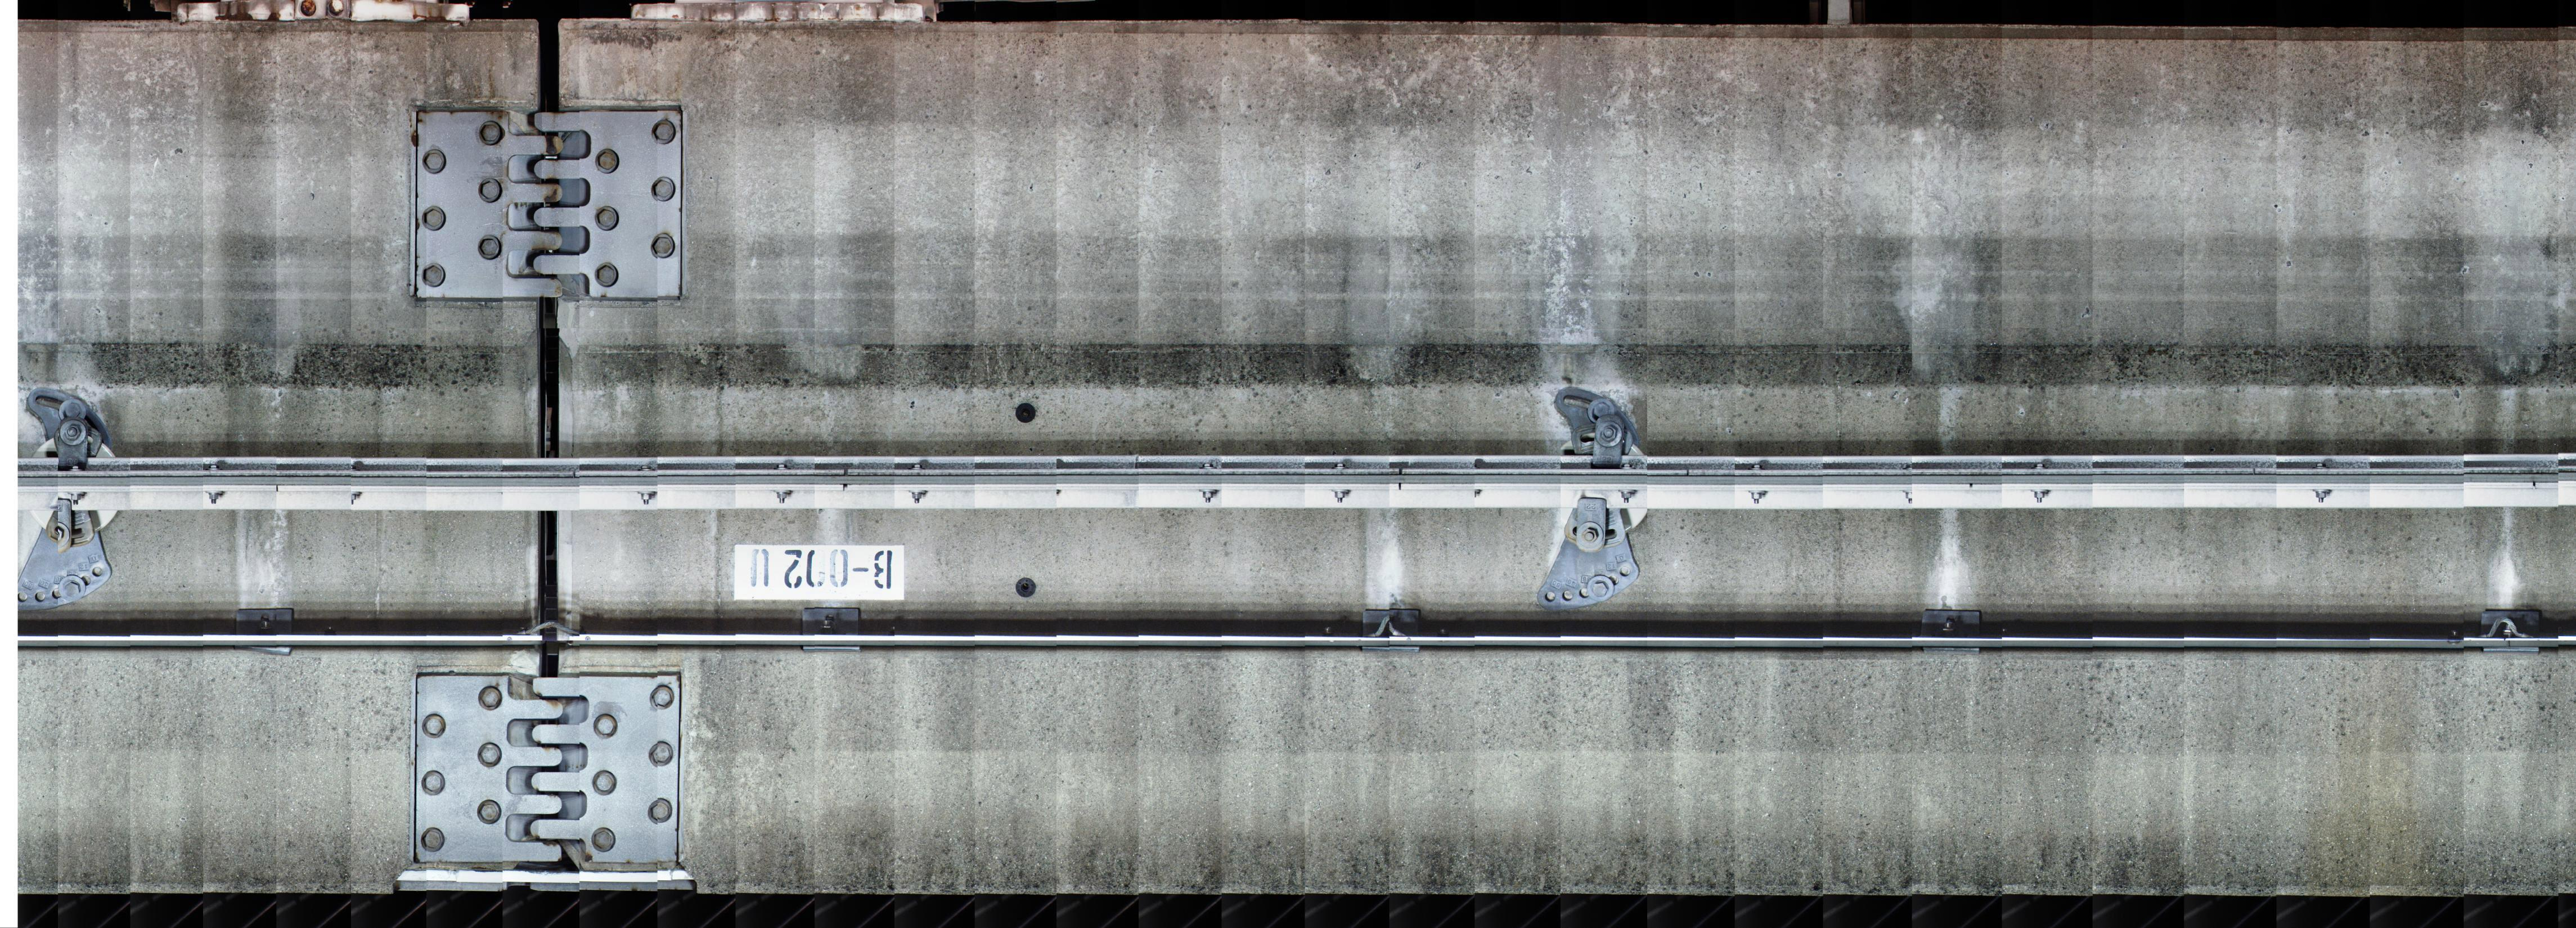concrete: (560, 15, 2561, 445), (563, 508, 2571, 892), (16, 16, 534, 452), (31, 514, 540, 890)
